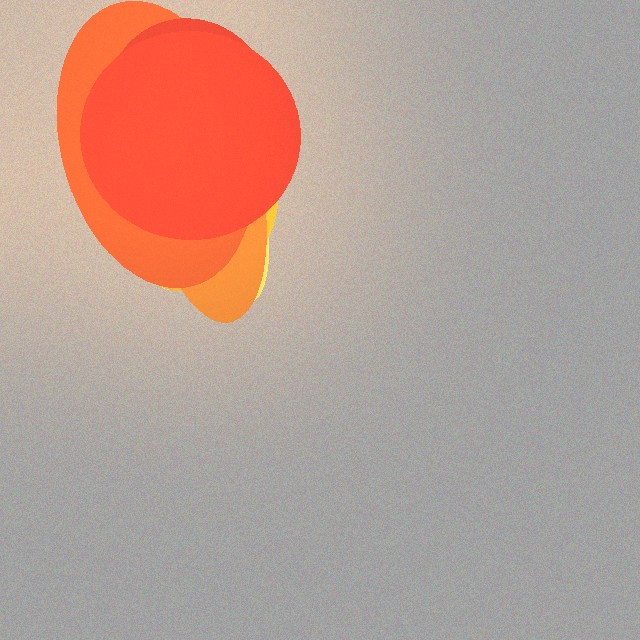fire: (61, 99, 315, 245)
